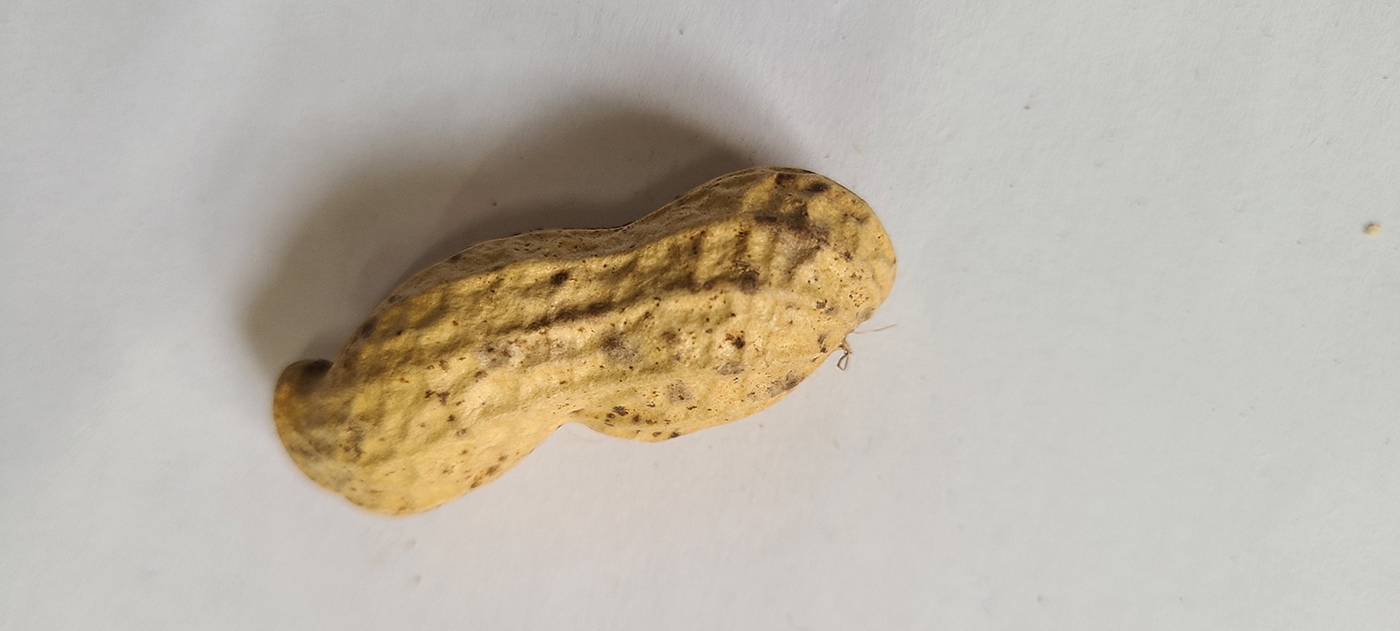h: (269, 160, 902, 521)
